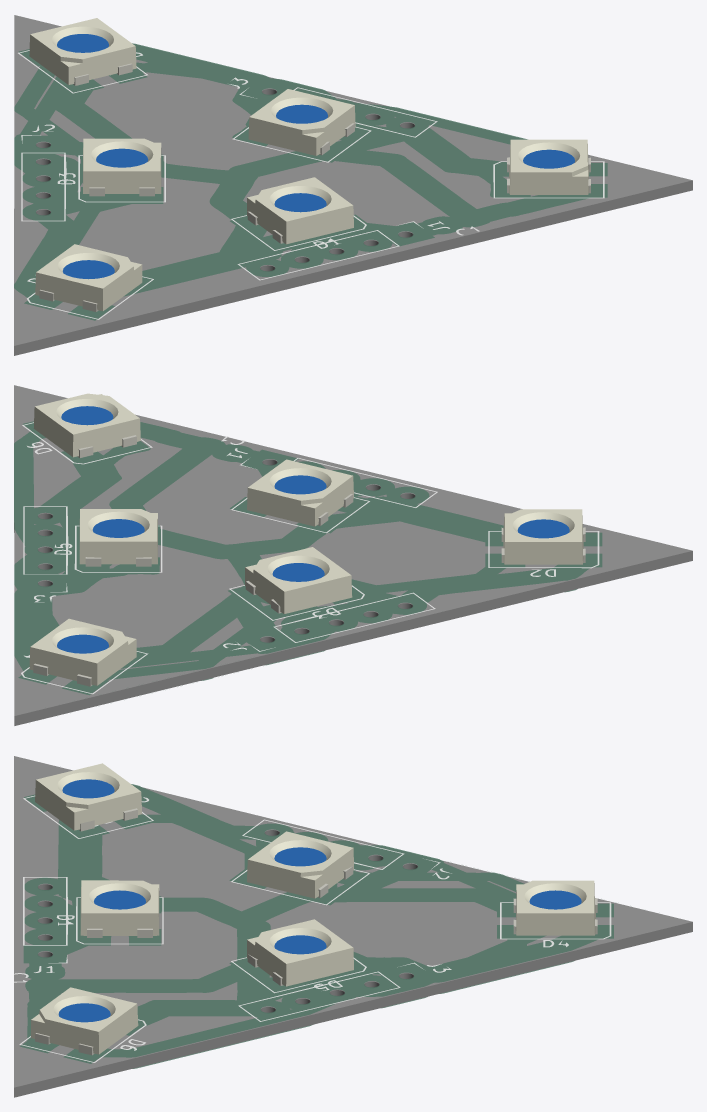
The model's file is 3-00-BWTqrXqy.glb.
The picture shows the model from 3 angles, top to bottom: view 1: azimuth 30°, elevation 25°; view 2: azimuth 150°, elevation 25°; view 3: azimuth 270°, elevation 25°; orthographic projection.
Visible parts, largest first — view 1: =>[0:1:1:5], =>[0:1:1:4], D4, D5, D2, D1, D6, D3, =>[0:1:1:3]; view 2: =>[0:1:1:5], =>[0:1:1:4], D1, D4, D3, D6, D2, D5, =>[0:1:1:3]; view 3: =>[0:1:1:5], =>[0:1:1:4], D2, D3, D6, D5, D4, D1, =>[0:1:1:3].
Part boxes in pixels (box(x1,y1,x2,y2)): =>[0:1:1:5]: box(14, 15, 692, 355); =>[0:1:1:4]: box(14, 43, 607, 320); D4: box(29, 18, 136, 85); D5: box(248, 89, 355, 155); D2: box(35, 244, 142, 311); D1: box(247, 177, 353, 244); D6: box(507, 139, 590, 194); D3: box(83, 138, 161, 196); =>[0:1:1:3]: box(18, 50, 604, 319); =>[0:1:1:5]: box(14, 385, 692, 725); =>[0:1:1:4]: box(14, 421, 602, 695); D1: box(247, 459, 353, 526); D4: box(29, 618, 136, 686); D3: box(245, 547, 352, 613); D6: box(33, 393, 140, 457); D2: box(501, 509, 585, 564); D5: box(79, 509, 157, 566); =>[0:1:1:3]: box(21, 422, 599, 694); =>[0:1:1:5]: box(14, 756, 692, 1097); =>[0:1:1:4]: box(20, 784, 613, 1068); D2: box(35, 763, 141, 831); D3: box(247, 831, 353, 898); D6: box(31, 987, 138, 1055); D5: box(247, 919, 353, 986); D4: box(513, 880, 597, 935); D1: box(80, 880, 159, 937); =>[0:1:1:3]: box(14, 795, 611, 1062).
Bounding box in the file's own units: 0.05 × 0.00257 × 0.0433.
